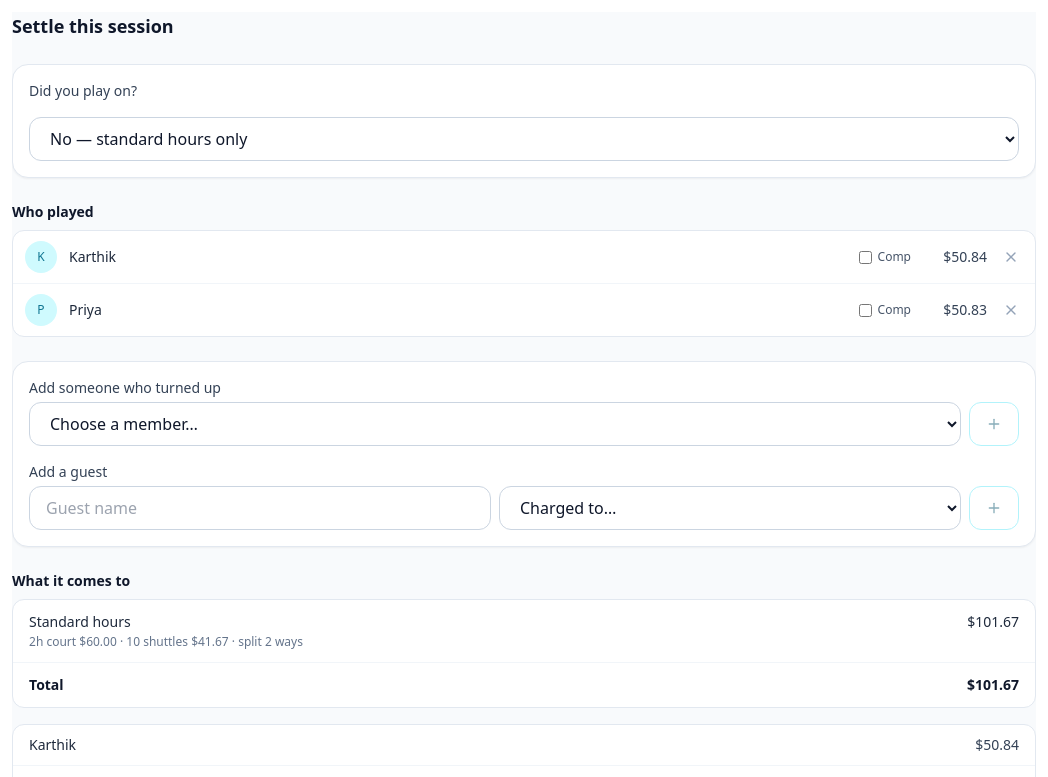
Test: AdminSettlement › re-costs after the missing purchase is recorded
Expected: the text "Karthik" below "Who played" is shown, top-left (69, 247), bottom-right (116, 266)
Select "Yes — one extra hour" in the dropdown labelled "Did you play on?" at (524, 139), box top-left (29, 117), bottom-right (1019, 161)
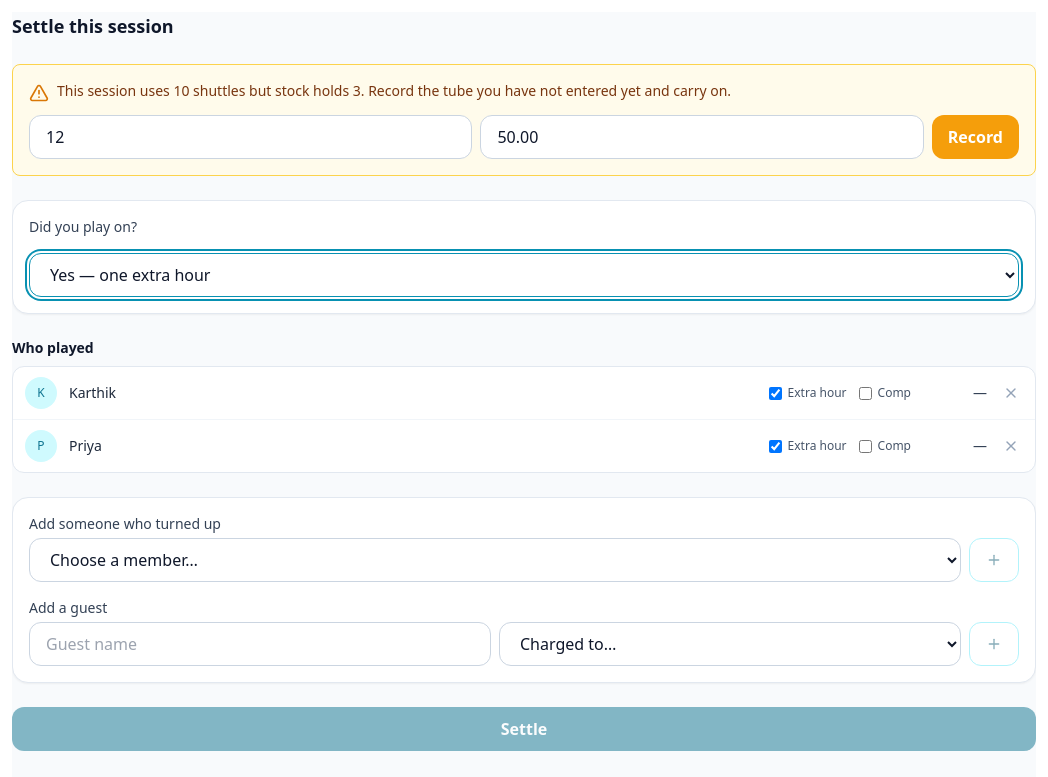
Expected: the button "Record" is shown
Click the button "Record" at (975, 137), box top-left (932, 115), bottom-right (1019, 159)
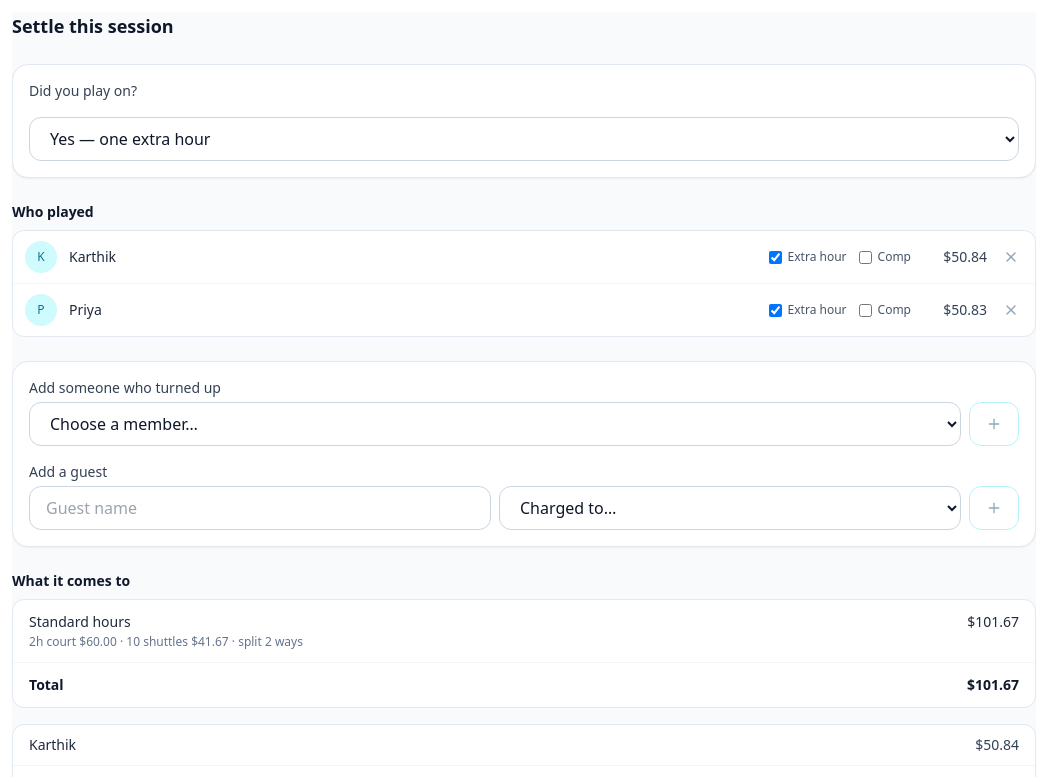
Expected: the text "uses 10 shuttles but stock holds 3" is gone
